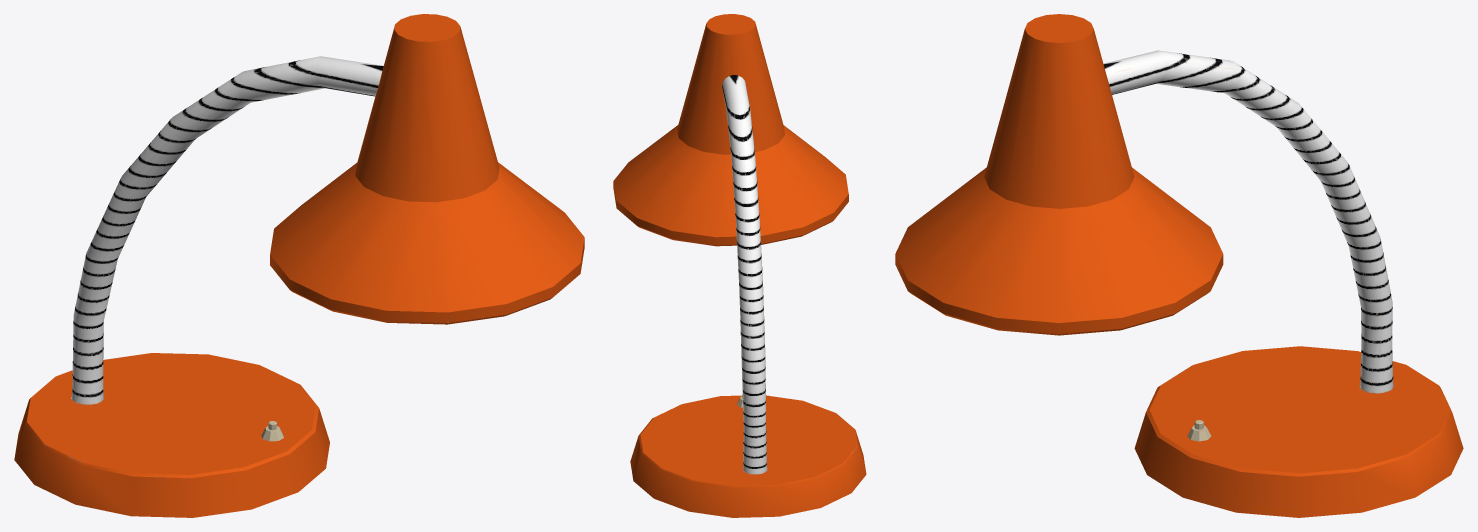
File: stolna_lampa.fbx
3 renders of one model, left to right at view 1: azimuth 30°, elevation 25°; view 2: azimuth 150°, elevation 25°; view 3: azimuth 270°, elevation 25°, orthographic. The views are drawn at different scales.
Parts seen in each view (by area): view 1: Cylinder; view 2: Cylinder; view 3: Cylinder.
Boxes of the visible parts, x1,y1,x2,y2 form: Cylinder: (14, 14, 584, 517); Cylinder: (613, 14, 866, 517); Cylinder: (895, 14, 1463, 517).
Size of the model in its own units: 13.73 by 11.95 by 13.06.
1 material, 1 textured.
